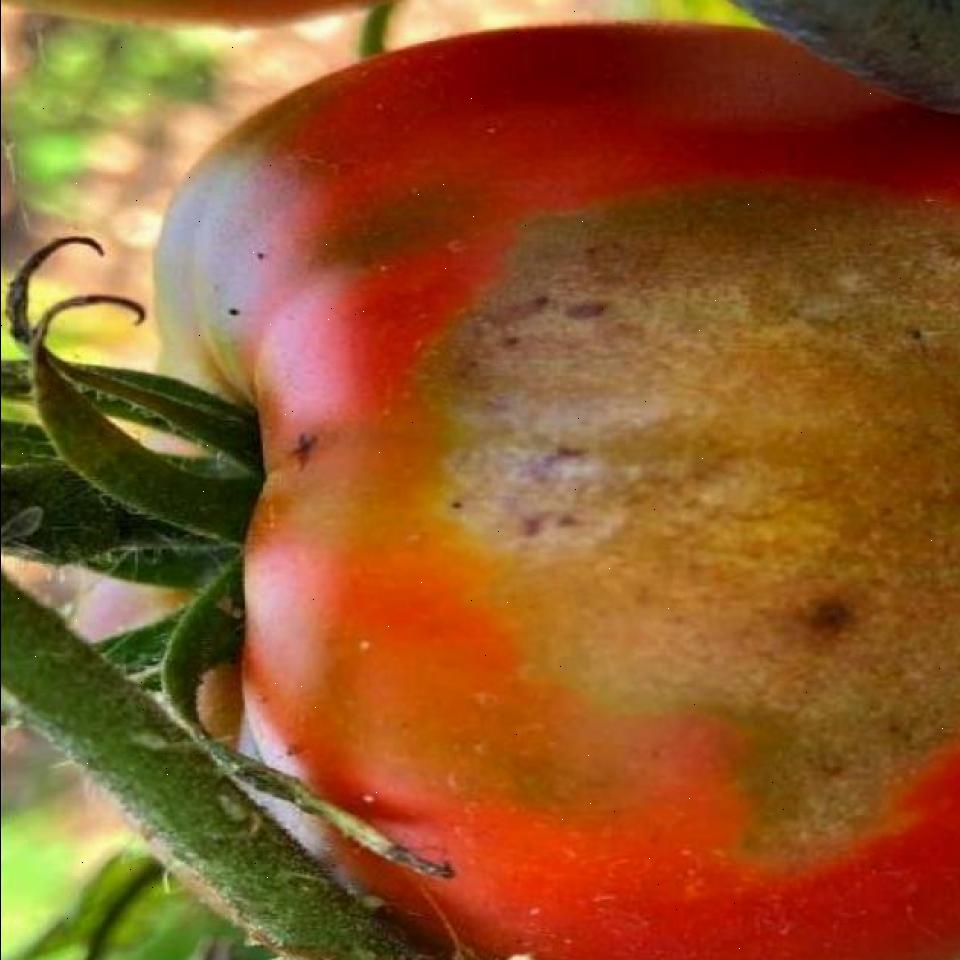Sunscald: (350, 180, 960, 855)
